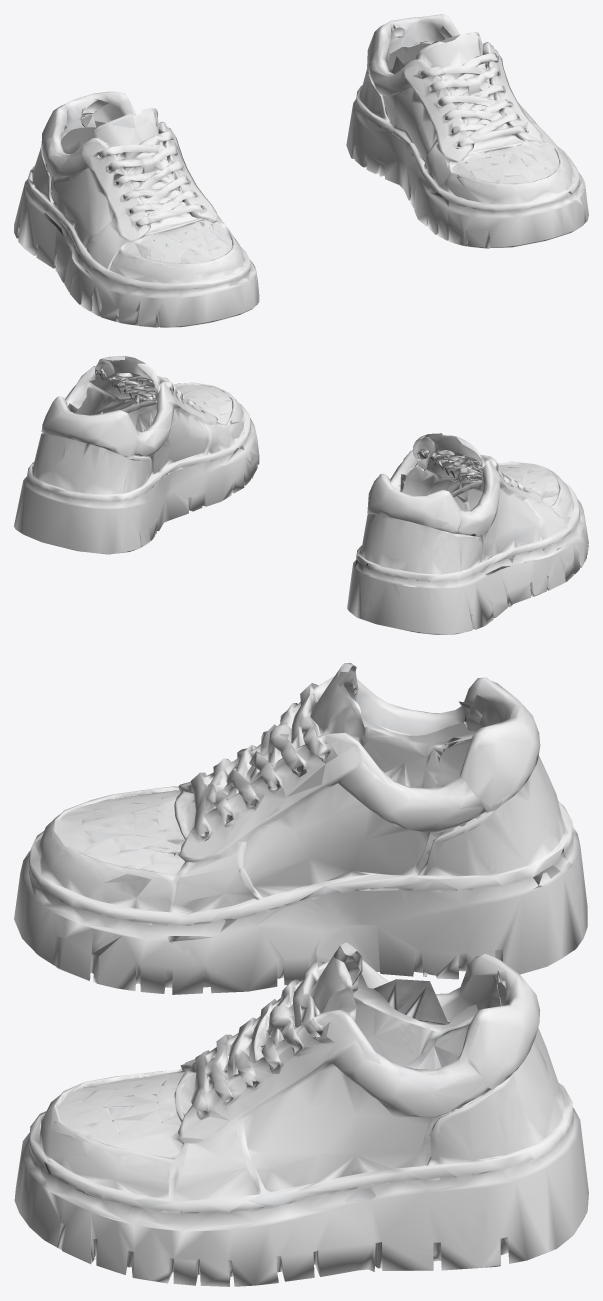
File: shoes_f_sneakers.glb
3 views of the same model, one above another, from view 1: azimuth 30°, elevation 25°; view 2: azimuth 150°, elevation 25°; view 3: azimuth 270°, elevation 25° (orthographic). The views are drawn at different scales.
Visible parts, largest first — view 1: f_sneakers; view 2: f_sneakers; view 3: f_sneakers.
Part boxes in pixels (<box>): f_sneakers: <box>14,14,588,327</box>; f_sneakers: <box>14,356,588,634</box>; f_sneakers: <box>14,663,588,1286</box>.
Size of the model in its own units: 0.4573 by 0.1351 by 0.2648.
Materials: 1 (1 with a texture image).
